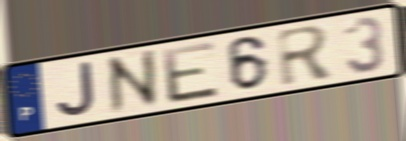3: (340, 14, 386, 78)
6: (225, 35, 272, 94)
E: (160, 39, 223, 106)
J: (54, 59, 99, 119)
N: (103, 46, 163, 118)
R: (274, 23, 338, 89)
